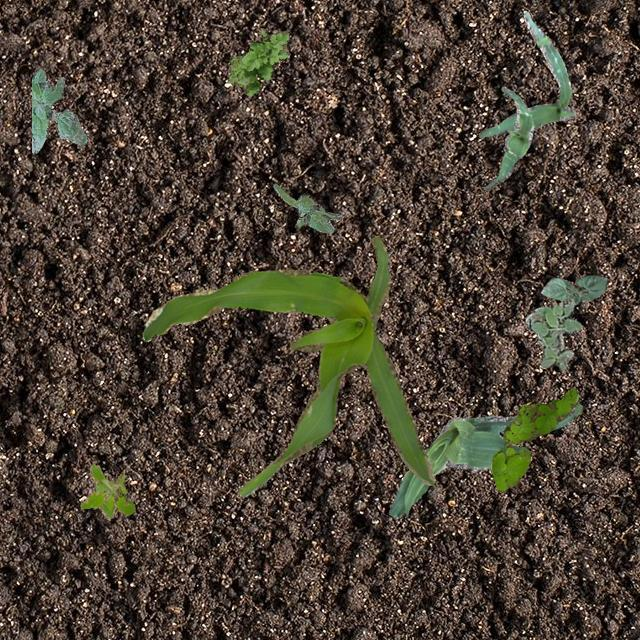crop: (142, 236, 434, 497), (388, 402, 584, 518), (478, 10, 574, 136), (483, 86, 532, 190), (540, 274, 606, 304)
weed: (490, 386, 578, 492), (30, 68, 86, 152), (524, 297, 582, 368), (228, 30, 288, 94), (272, 182, 340, 232), (80, 462, 134, 520)
